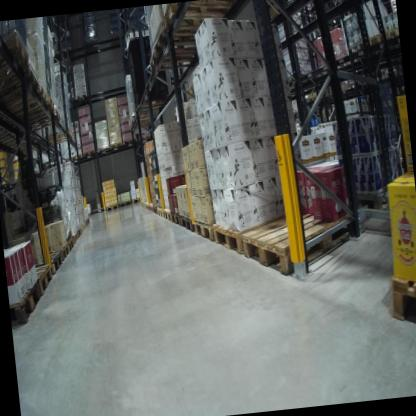pallet: (212, 168, 401, 261), (236, 190, 370, 283), (152, 16, 239, 56), (0, 62, 48, 123), (160, 0, 237, 34), (0, 81, 50, 127), (148, 43, 208, 77), (385, 267, 416, 332), (0, 31, 33, 89), (8, 279, 45, 327), (10, 95, 58, 131), (20, 105, 63, 141), (26, 261, 54, 297), (342, 36, 373, 67), (192, 214, 220, 246), (40, 126, 75, 148), (35, 251, 63, 276), (131, 99, 167, 114), (368, 28, 390, 49), (177, 210, 194, 233), (310, 0, 364, 7), (129, 117, 161, 128), (53, 243, 69, 261), (170, 209, 182, 227), (163, 205, 175, 223), (72, 90, 88, 103), (387, 27, 399, 42), (64, 236, 74, 253), (68, 230, 79, 245), (117, 199, 133, 209), (108, 140, 124, 150), (96, 144, 111, 154), (103, 203, 119, 212), (121, 134, 137, 143), (82, 149, 96, 159), (308, 94, 320, 105), (130, 195, 142, 206), (156, 205, 165, 219), (153, 200, 160, 215), (73, 226, 81, 239), (70, 153, 83, 161), (148, 202, 154, 213), (146, 201, 152, 210), (86, 211, 93, 217)
